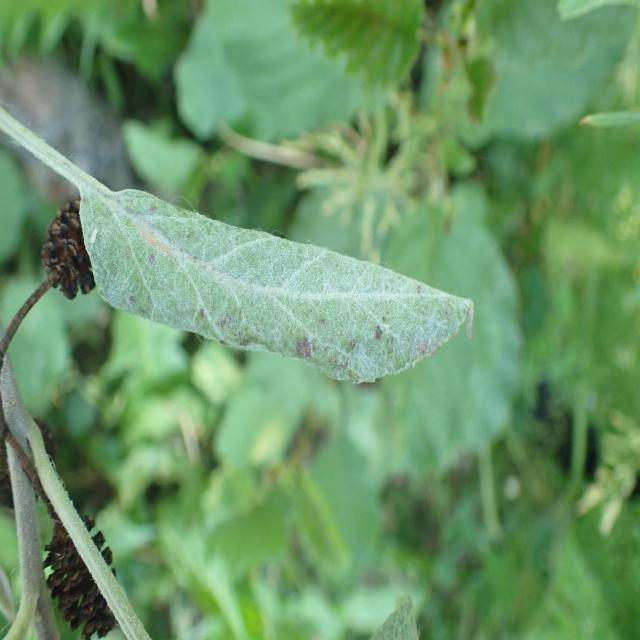Powdery_mildew: (61, 164, 474, 384)
